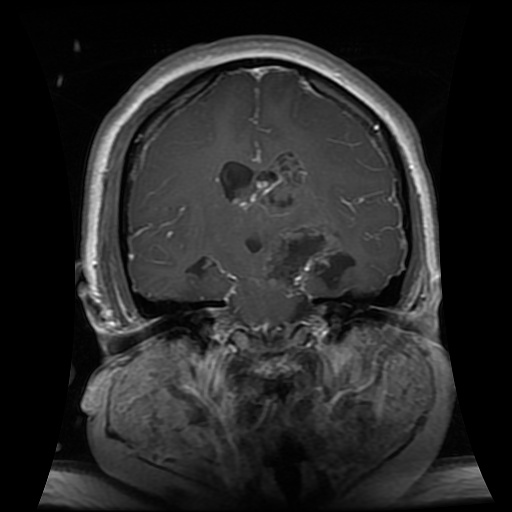glioma: (213, 147, 361, 296)
